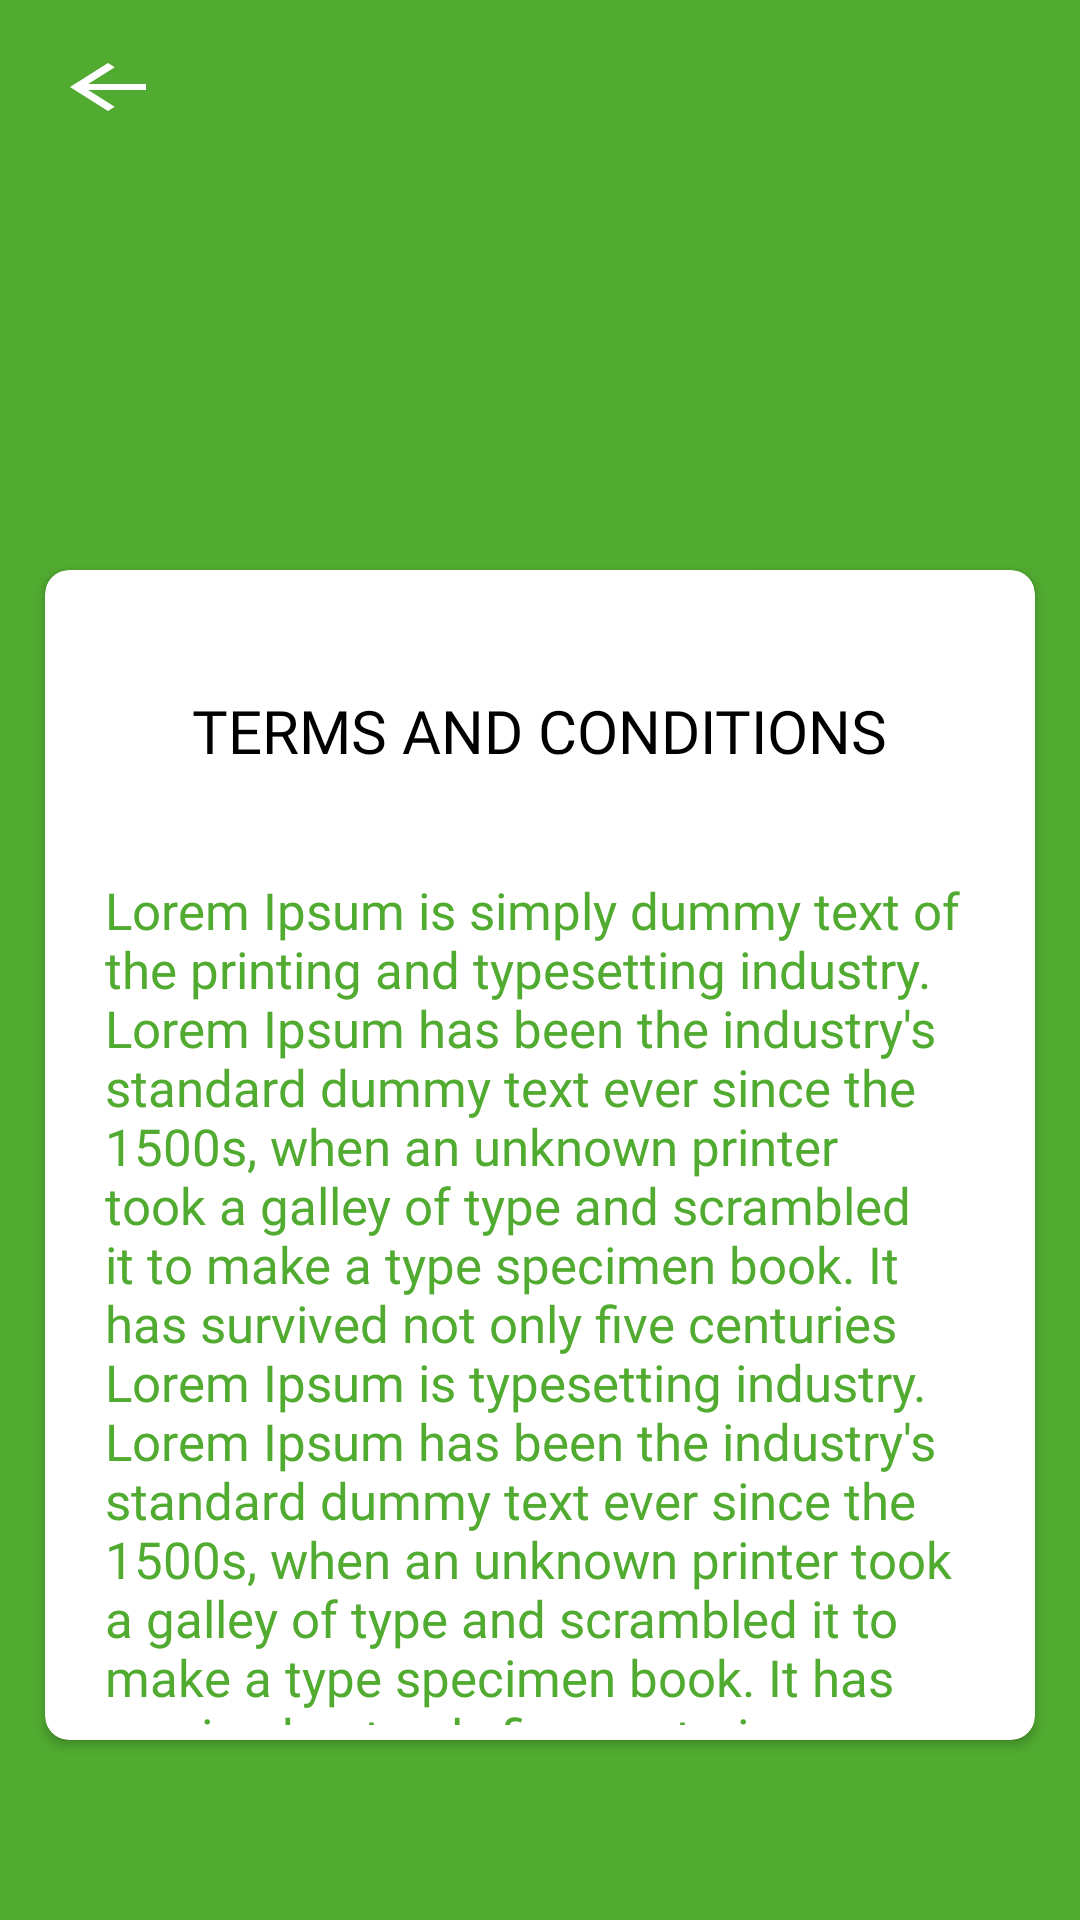

Icons on this 1080w x 1920h Android screen, each with its box as {"x1": x1, "y1": y1, "x2": x2, "y2": y2}:
back arrow: {"x1": 70, "y1": 63, "x2": 146, "y2": 111}
